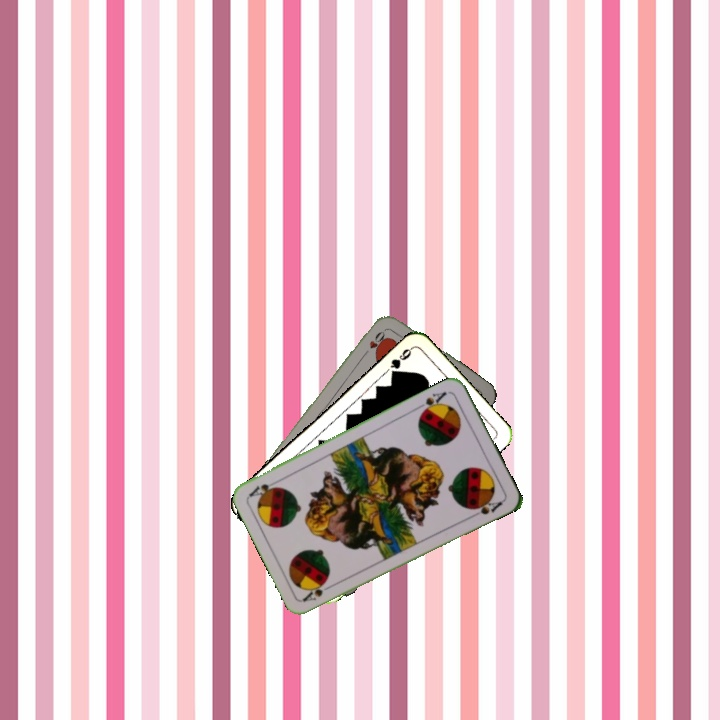G9: (386, 343, 415, 379)
HO: (359, 325, 389, 359)
SA: (413, 387, 449, 417), (299, 579, 337, 604)
